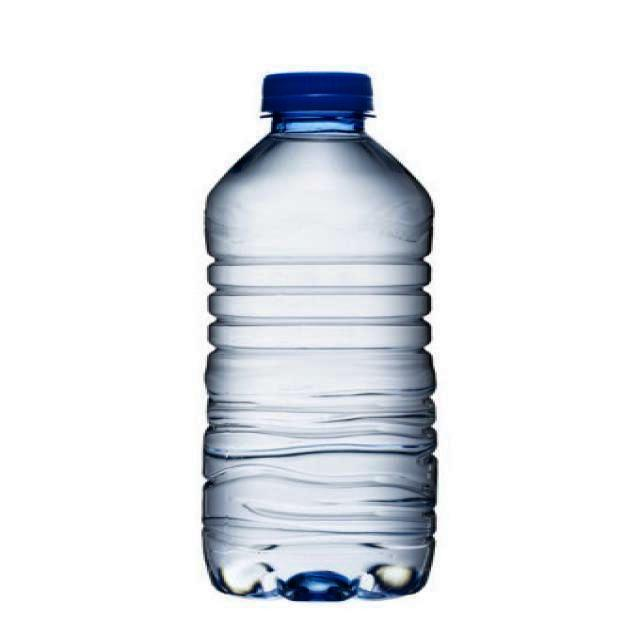bottle: (203, 72, 437, 602)
